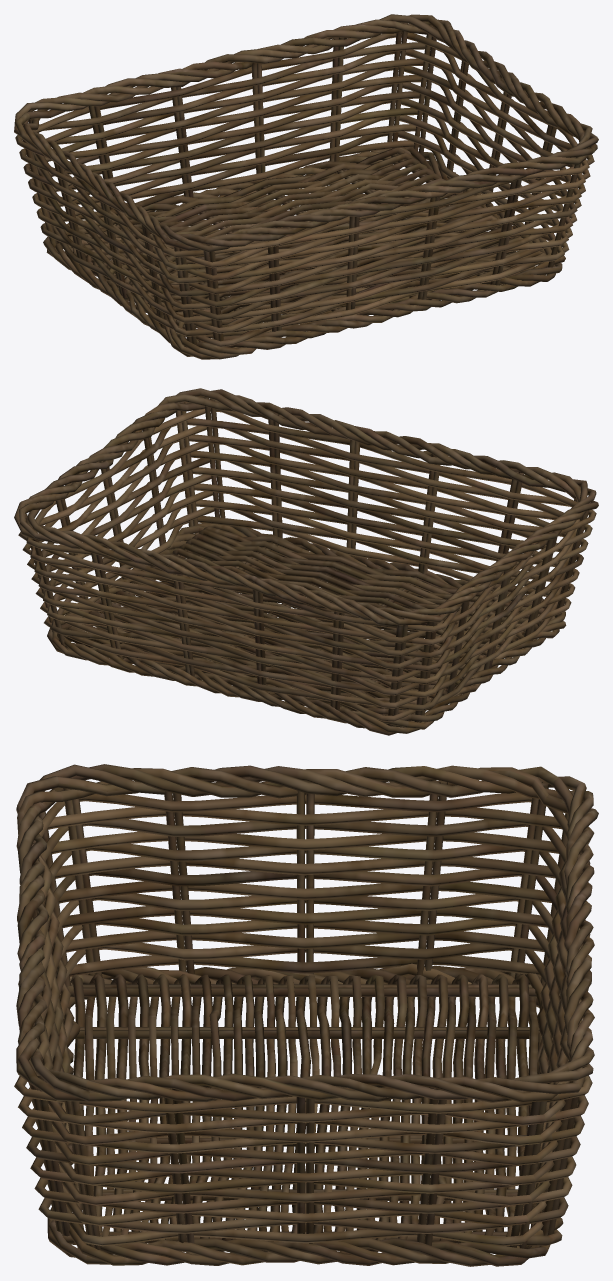
The model's file is wicker_basket_01.glb.
3 renders of one model, top to bottom at view 1: azimuth 30°, elevation 25°; view 2: azimuth 150°, elevation 25°; view 3: azimuth 270°, elevation 25°, orthographic. The views are drawn at different scales.
Visible parts, largest first — view 1: wicker_basket_01; view 2: wicker_basket_01; view 3: wicker_basket_01.
Boxes of the visible parts, <box> form: wicker_basket_01: <box>14,14,598,359</box>; wicker_basket_01: <box>14,388,598,735</box>; wicker_basket_01: <box>14,764,598,1266</box>.
Bounding box in the file's own units: 0.3832 × 0.1174 × 0.295.
Materials: 1 (1 with a texture image).
